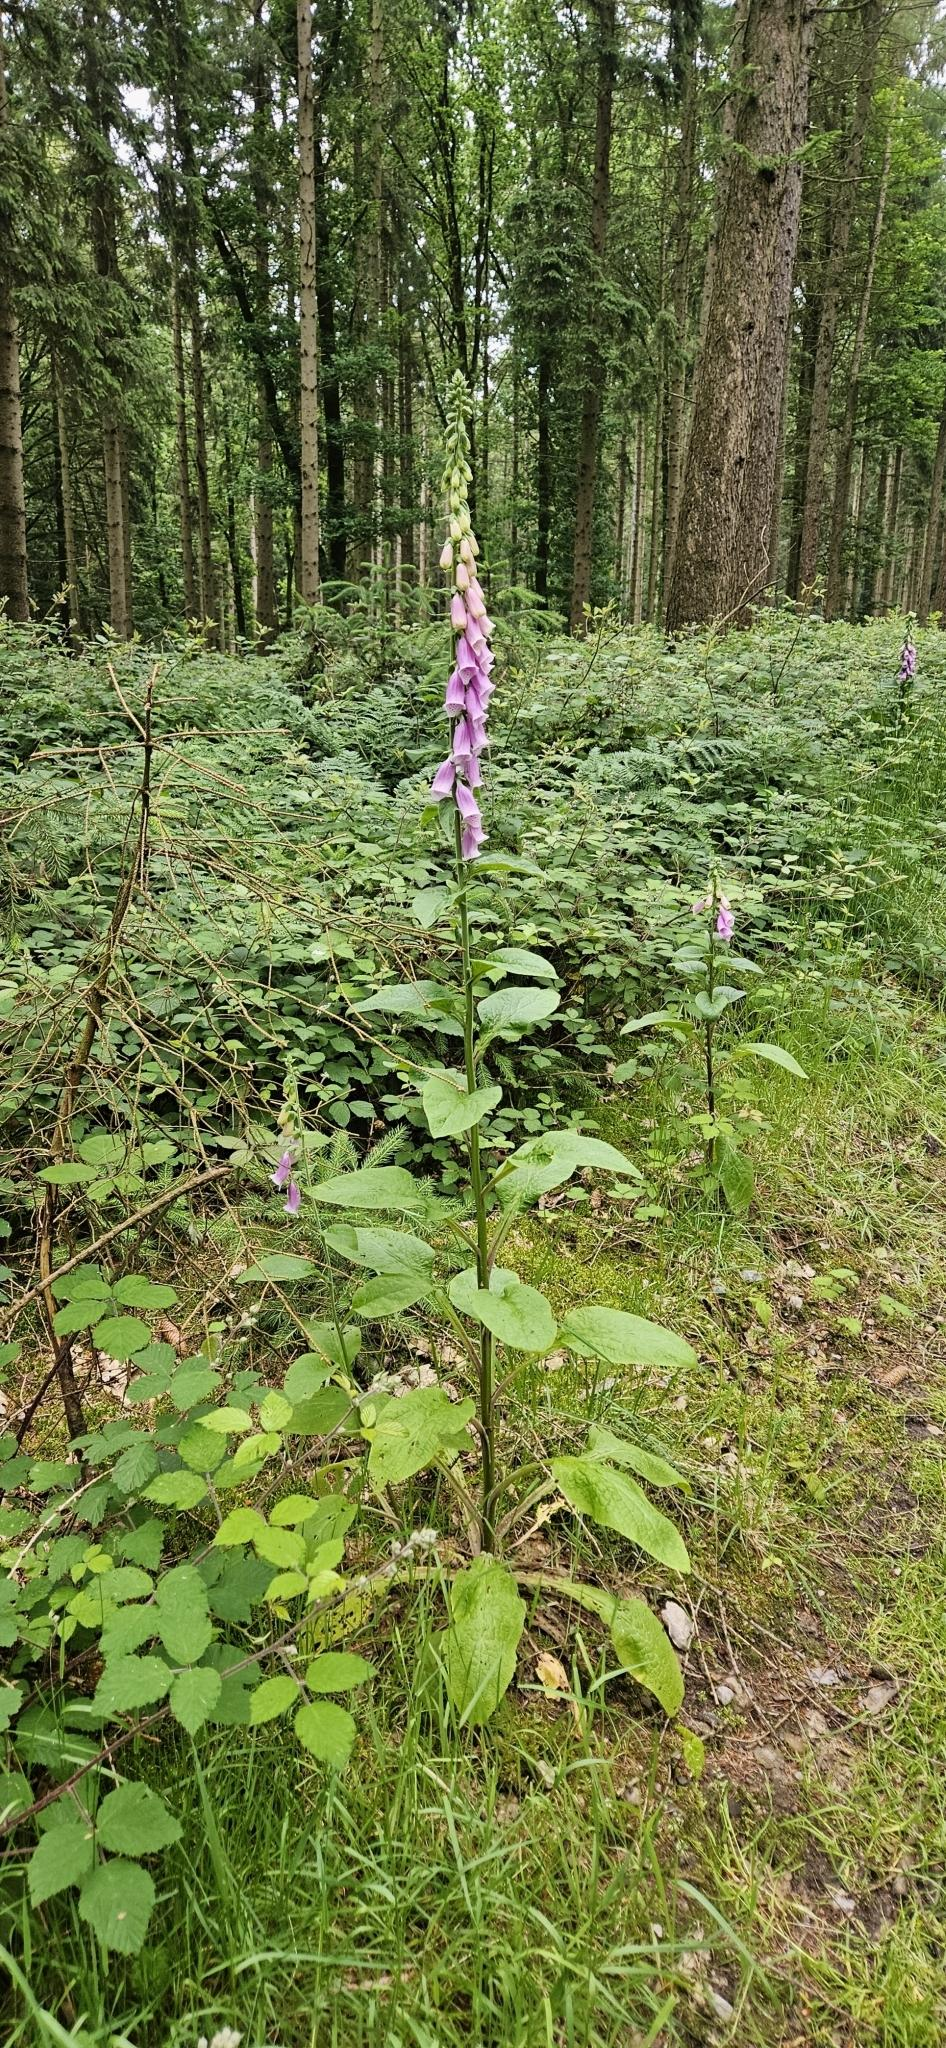Digitalis L: (321, 360, 659, 1714), (642, 865, 788, 1223), (264, 1058, 385, 1412)
